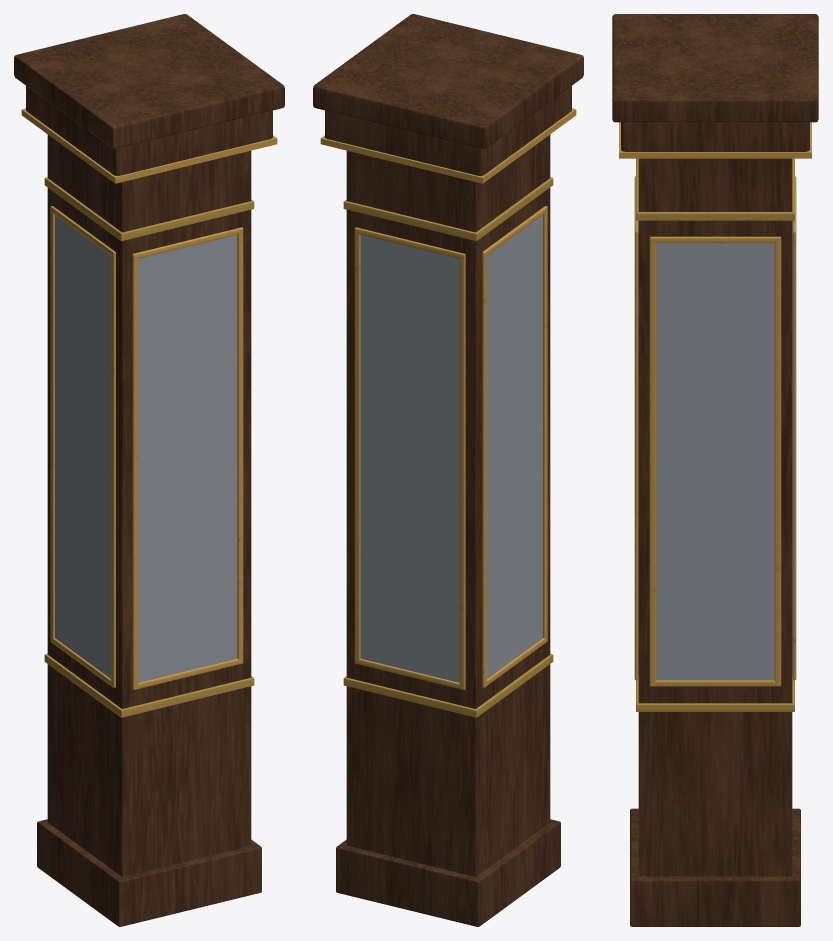
Rendered from SM_CR_Column.glb.
The picture shows the model from 3 angles, left to right: view 1: azimuth 30°, elevation 25°; view 2: azimuth 150°, elevation 25°; view 3: azimuth 270°, elevation 25°; orthographic projection. The views are drawn at different scales.
Visible parts, largest first — view 1: SM_CR_Column; view 2: SM_CR_Column; view 3: SM_CR_Column.
Boxes of the visible parts, x1,y1,x2,y2 form: SM_CR_Column: (14,14,284,926); SM_CR_Column: (313,14,583,926); SM_CR_Column: (612,14,818,926).
Size of the model in its own units: 0.94 by 4.2 by 0.94.
Materials: 4 (4 with a texture image).
